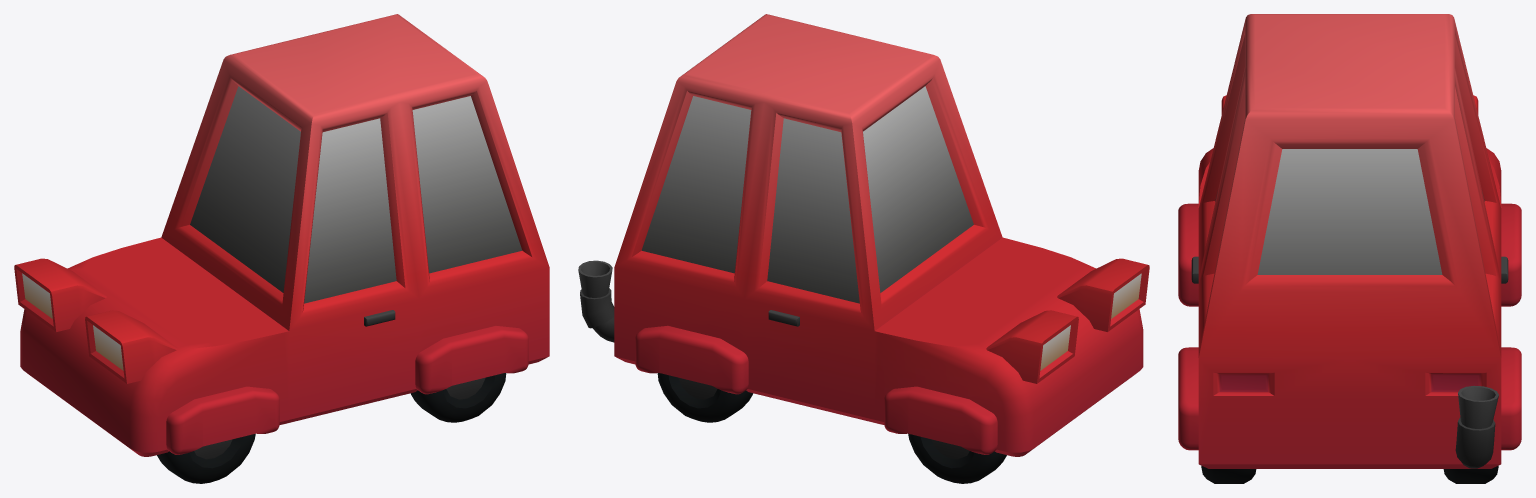
The model's file is Vehicle.glb.
3 renders of one model, left to right at view 1: azimuth 30°, elevation 25°; view 2: azimuth 150°, elevation 25°; view 3: azimuth 270°, elevation 25°, orthographic. The views are drawn at different scales.
Visible parts, largest first — view 1: Car, FrontLeftWheel, BackWheels; view 2: Car, FrontRightWheel, BackWheels; view 3: Car, BackWheels.
Boxes of the visible parts, x1,y1,x2,y2 form: Car: (14,14,549,456); FrontLeftWheel: (157,434,255,483); BackWheels: (410,373,506,422); Car: (578,14,1149,456); FrontRightWheel: (908,433,1006,483); BackWheels: (657,373,753,422); Car: (1178,14,1521,468); BackWheels: (1201,465,1498,483).
Size of the model in its own units: 1.32 by 0.9079 by 0.7225.
1 material, 1 textured.
